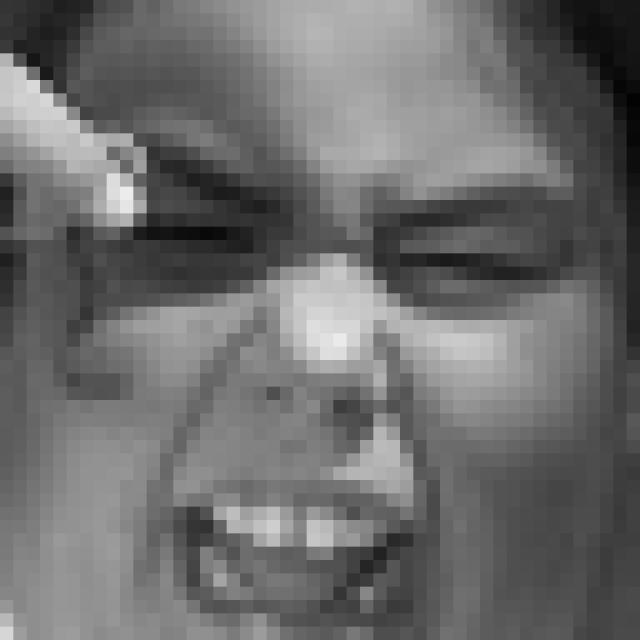disgust: (79, 124, 575, 640)
